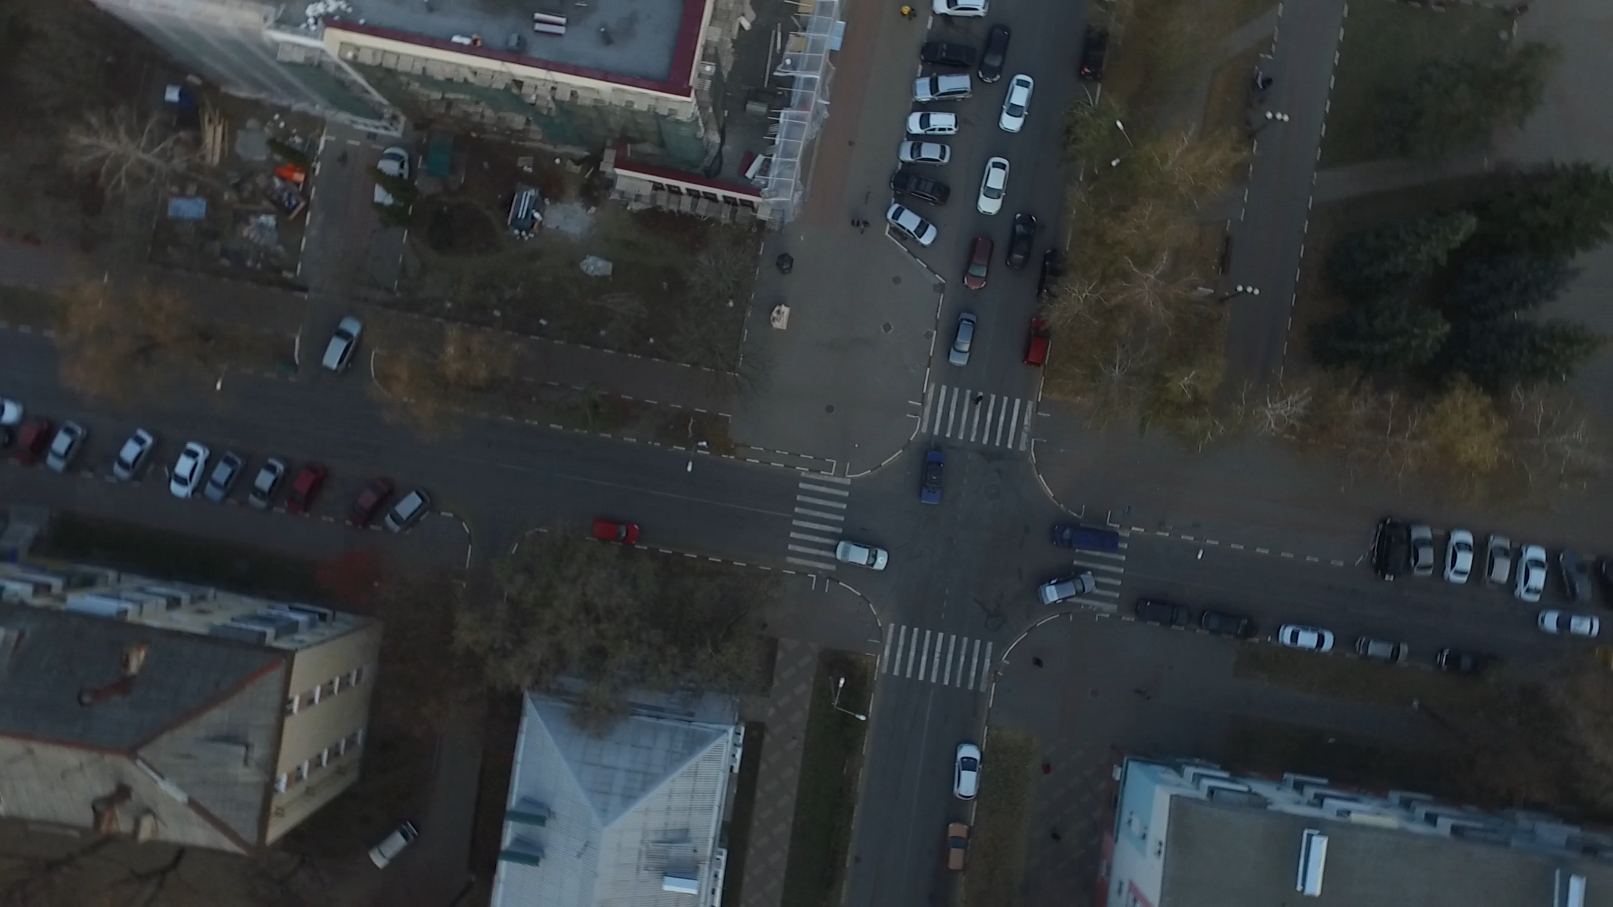car: (363, 817, 422, 870), (371, 147, 417, 212), (167, 442, 215, 499), (321, 318, 368, 377), (968, 24, 1011, 83), (380, 488, 430, 537), (1373, 521, 1412, 580), (113, 429, 160, 480), (1436, 646, 1509, 678), (911, 450, 954, 504), (347, 481, 397, 527), (1553, 552, 1595, 605), (888, 204, 936, 250), (1535, 606, 1600, 640), (248, 457, 290, 509), (973, 157, 1011, 214), (891, 171, 951, 207), (1052, 523, 1120, 555), (44, 422, 88, 472), (203, 453, 245, 504), (1032, 568, 1095, 602), (285, 467, 327, 517), (998, 72, 1032, 133), (919, 39, 976, 75), (911, 72, 972, 105), (1512, 546, 1548, 600), (952, 741, 984, 801), (592, 511, 643, 548), (1130, 597, 1192, 627), (1081, 22, 1111, 84), (1200, 607, 1257, 639), (1353, 633, 1406, 668), (1280, 623, 1338, 655), (1484, 534, 1517, 590), (1442, 527, 1477, 579), (962, 237, 995, 290), (906, 107, 960, 140), (1407, 521, 1436, 580), (838, 539, 888, 573), (1007, 213, 1036, 271), (947, 312, 977, 369), (941, 822, 973, 872), (900, 137, 949, 169), (13, 418, 51, 458), (1039, 248, 1066, 305), (1026, 315, 1051, 365), (931, 1, 987, 21)
